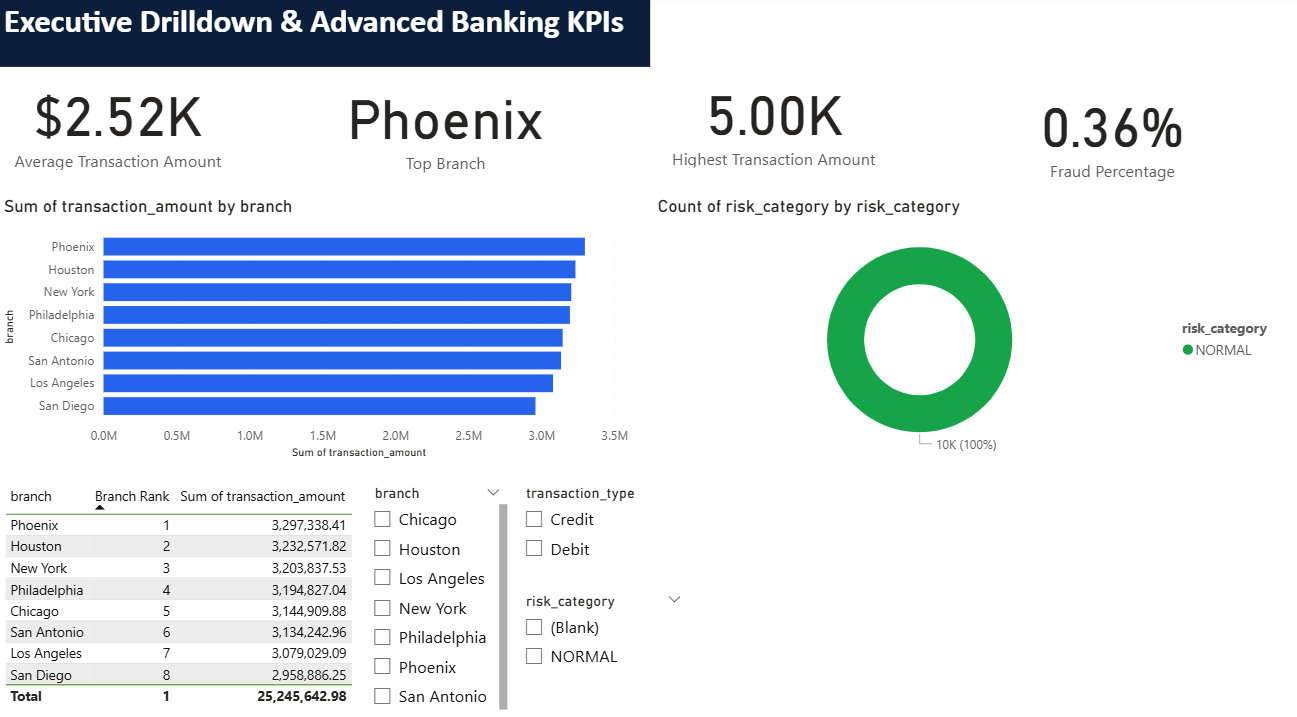

The dashboard page shown, as its layout file describes it:
{"tool":"powerbi","page":{"name":"Executive KPI Analytics","canvas":[1280,720],"ordinal":2},"visuals":[{"type":"textbox","box":[0,0,639.1,69.8],"z":0},{"type":"clusteredBarChart","fields":{"Category":["analytics fact_transactions.branch"],"Y":["Sum(analytics fact_transactions.transaction_amount)"]},"box":[0,195.8,623.4,263.3],"z":1000},{"type":"donutChart","fields":{"Category":["analytics fact_transactions.risk_category"],"Y":["CountNonNull(analytics fact_transactions.risk_category)"]},"box":[641.4,195.8,623.4,263.3],"z":2000},{"type":"tableEx","fields":{"Values":["analytics fact_transactions.branch","analytics fact_transactions.Branch Rank","Sum(analytics fact_transactions.transaction_amount)"]},"box":[0,474.8,355.6,245.3],"z":3000},{"type":"slicer","fields":{"Values":["analytics fact_transactions.branch"]},"box":[355.6,474.8,148.5,245.3],"z":4000},{"type":"slicer","fields":{"Values":["analytics fact_transactions.transaction_type"]},"box":[504.1,474.8,177.8,105.8],"z":5000},{"type":"slicer","fields":{"Values":["analytics fraud_alerts.risk_category"]},"box":[504.1,580.6,177.8,87.8],"z":6000},{"type":"card","fields":{"Values":["analytics fact_transactions.Average Transaction Amount"]},"box":[0,69.8,234,105.8],"z":7000},{"type":"card","fields":{"Values":["analytics fact_transactions.Top Branch"]},"box":[254,72.4,369.3,105.5],"z":8000},{"type":"card","fields":{"Values":["analytics fact_transactions.Highest Transaction Amount"]},"box":[623.3,69.9,274.8,103.1],"z":9000},{"type":"card","fields":{"Values":["analytics fraud_alerts.Fraud Percentage"]},"box":[921.5,69.9,343.6,126.4],"z":10000}]}

Visuals, with their boxes in screenshot pixels (x1, y1, x2, y2), scaled from the page's 1280x720 canvas onto the 1297x717 screenshot:
textbox: left=0, top=0, right=648, bottom=70
clusteredBarChart - analytics fact_transactions.branch x Sum(analytics fact_transactions.transaction_amount): left=0, top=195, right=632, bottom=457
donutChart - analytics fact_transactions.risk_category x CountNonNull(analytics fact_transactions.risk_category): left=650, top=195, right=1282, bottom=457
tableEx - analytics fact_transactions.branch x analytics fact_transactions.Branch Rank: left=0, top=473, right=360, bottom=716
slicer - analytics fact_transactions.branch: left=360, top=473, right=511, bottom=716
slicer - analytics fact_transactions.transaction_type: left=511, top=473, right=691, bottom=578
slicer - analytics fraud_alerts.risk_category: left=511, top=578, right=691, bottom=666
card - analytics fact_transactions.Average Transaction Amount: left=0, top=70, right=237, bottom=175
card - analytics fact_transactions.Top Branch: left=257, top=72, right=632, bottom=177
card - analytics fact_transactions.Highest Transaction Amount: left=632, top=70, right=910, bottom=172
card - analytics fraud_alerts.Fraud Percentage: left=934, top=70, right=1282, bottom=195
